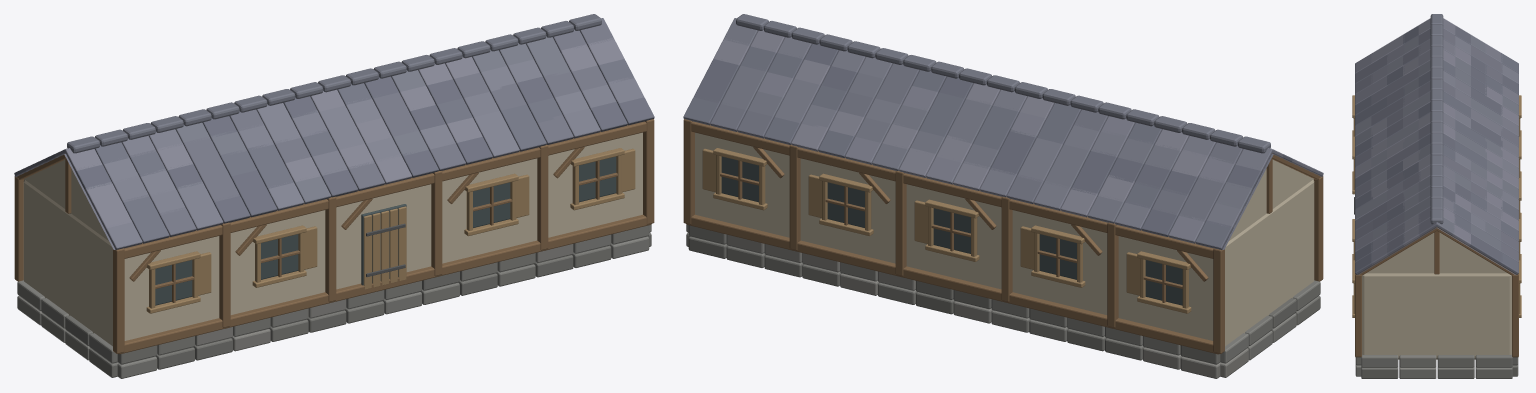
File: c01_row_6x2.glb
3 views of the same model, side by side, from view 1: azimuth 30°, elevation 25°; view 2: azimuth 150°, elevation 25°; view 3: azimuth 270°, elevation 25° (orthographic). The views are drawn at different scales.
Visible parts, largest first — view 1: Walls, Roof; view 2: Walls, Roof; view 3: Roof, Walls.
Part boxes in pixels (x1=…): Walls: x1=14, y1=119, x2=654, y2=378; Roof: x1=14, y1=14, x2=654, y2=250; Walls: x1=683, y1=119, x2=1323, y2=378; Roof: x1=683, y1=14, x2=1323, y2=250; Roof: x1=1355, y1=14, x2=1518, y2=275; Walls: x1=1352, y1=95, x2=1521, y2=378.
Size of the model in its own units: 5.7 by 2 by 1.94.
1 material, 1 textured.
